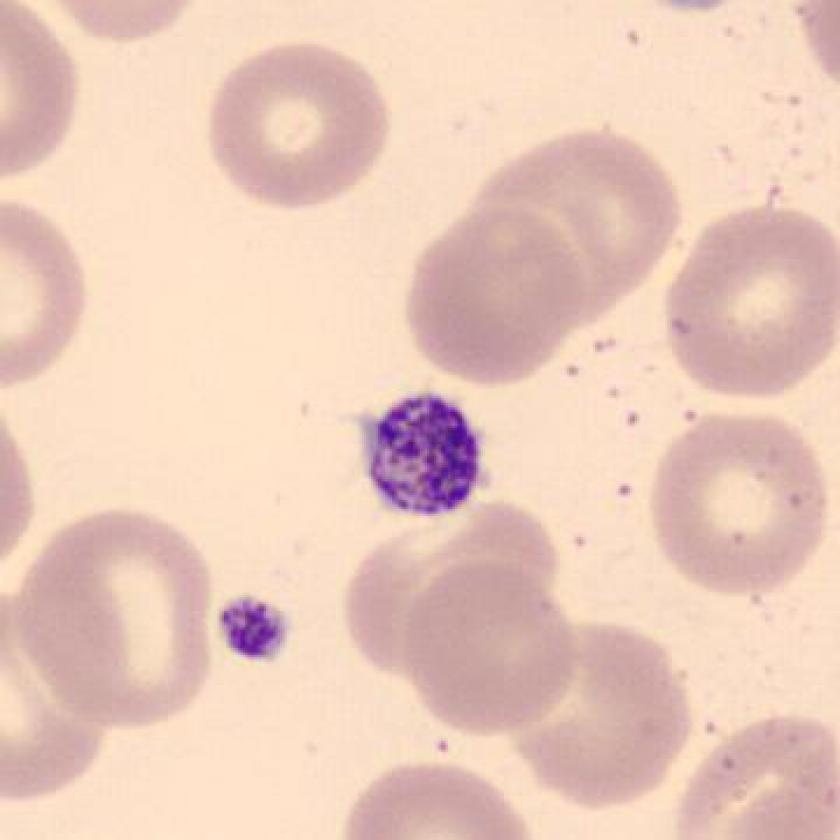platelets: (354, 383, 494, 522), (204, 582, 307, 681)
